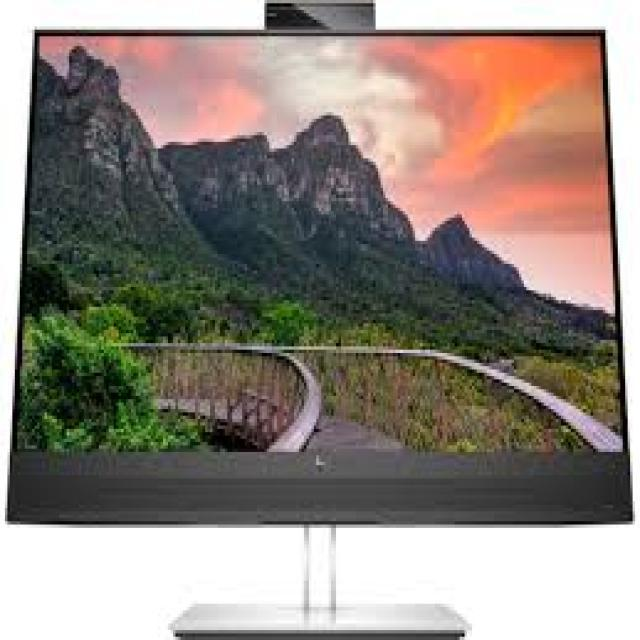monitor: (0, 8, 640, 640)
